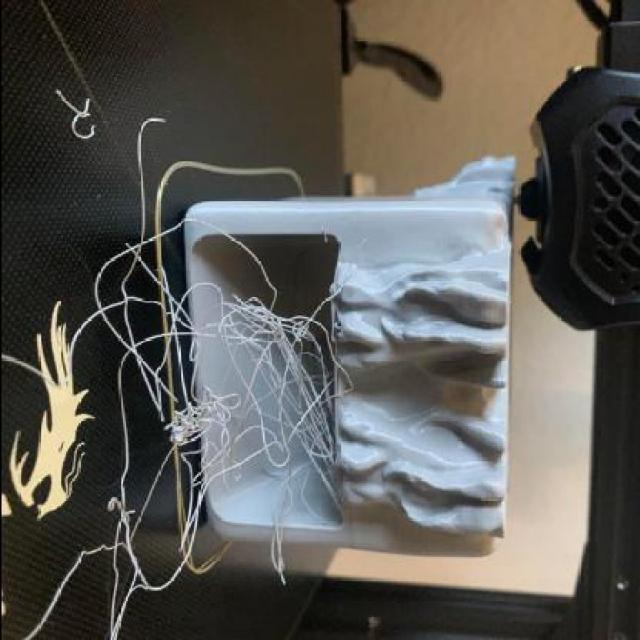spaghetti: (88, 213, 357, 589)
